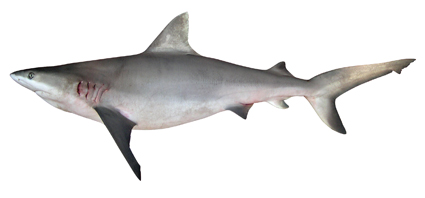fish: (10, 13, 416, 181)
